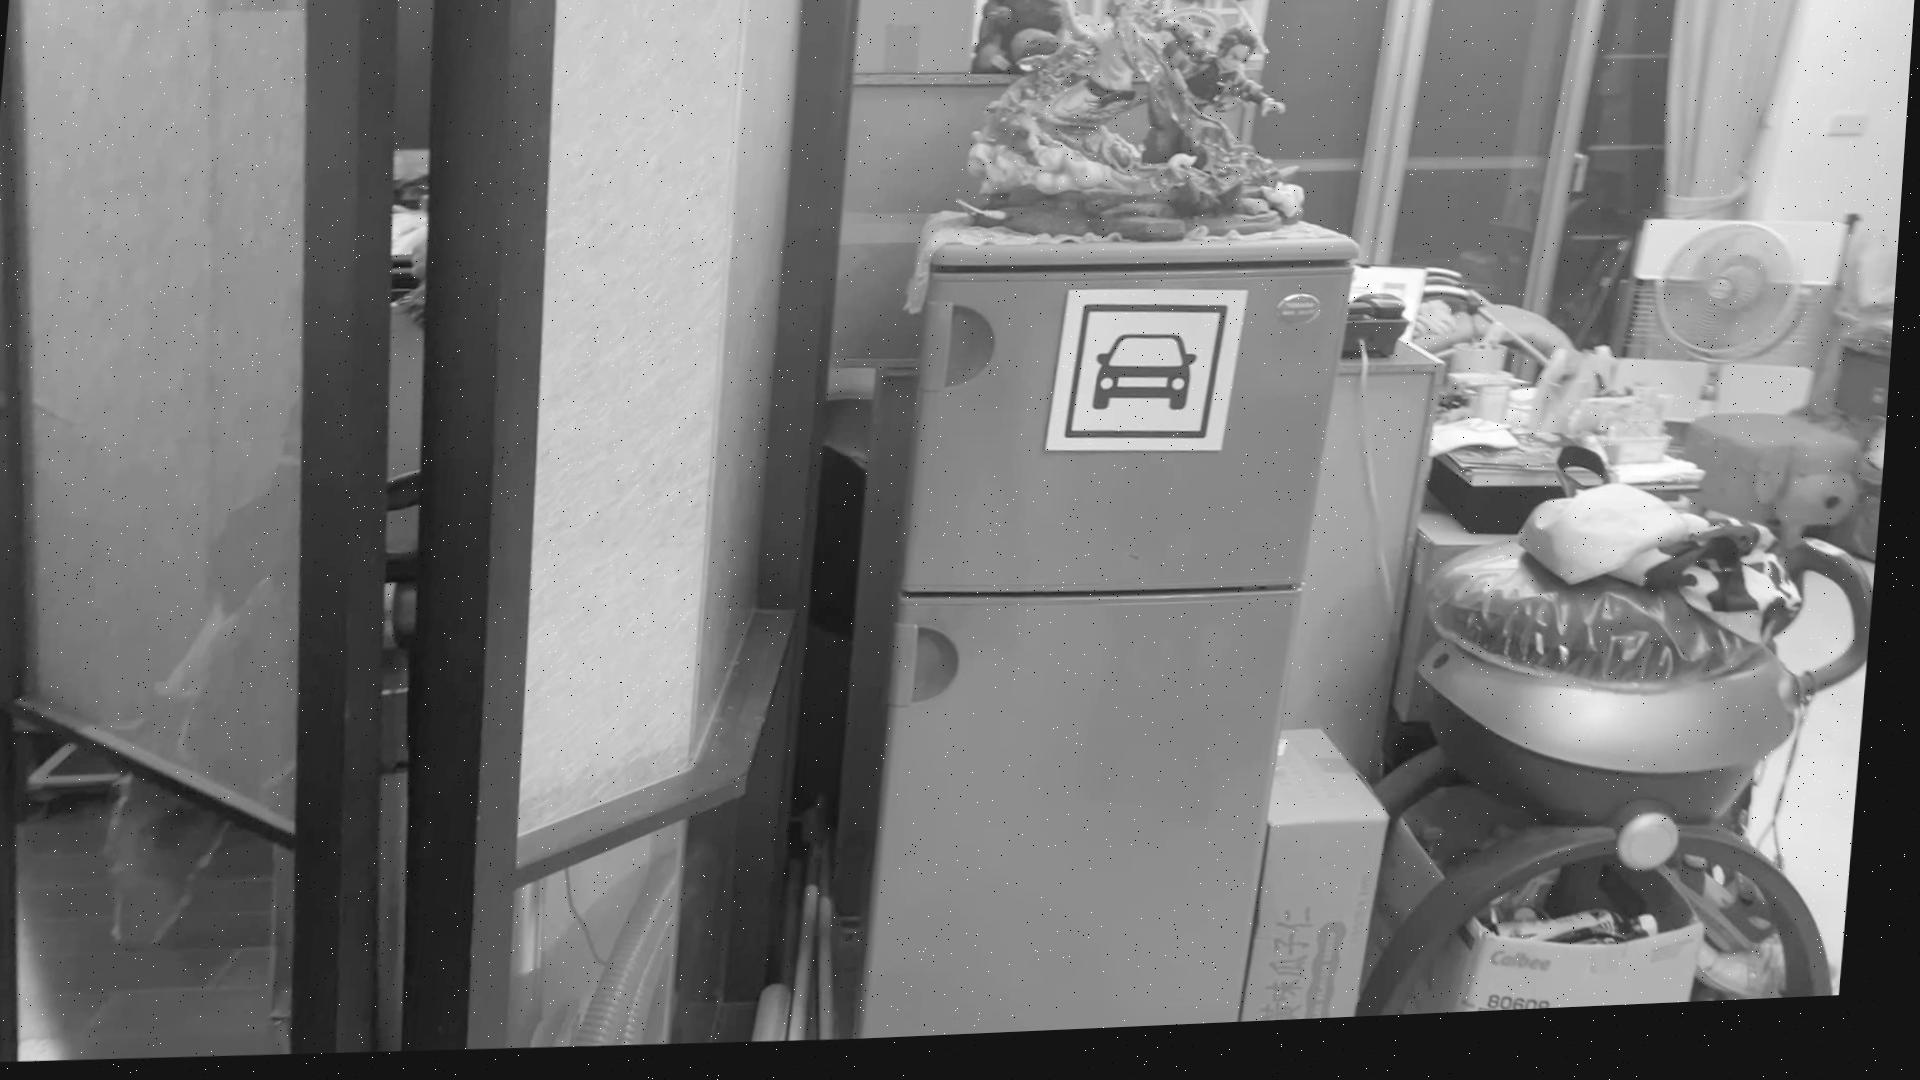car_img: (1069, 307, 1234, 456)
